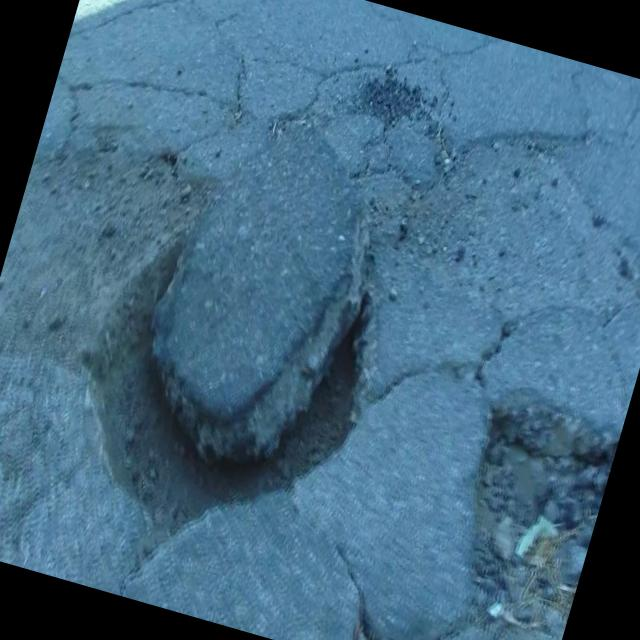Potholes: (35, 184, 414, 600), (378, 364, 627, 640)
